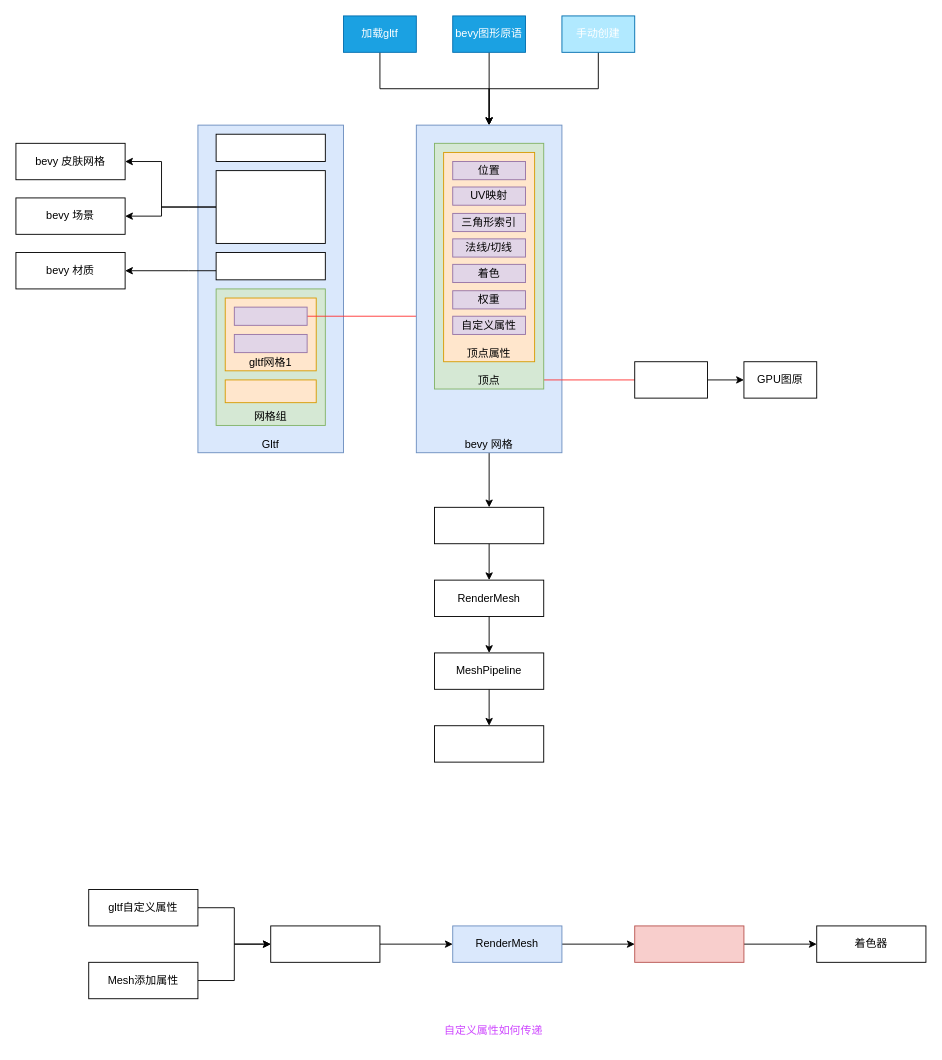
Image size: 942x1060. Some labels were removed from this diagram. The shapes that lost their labels are listed below. From the top down, each one's centre as x and y in pixels, then its label:
point (270, 147): gltf资产
point (270, 206): 场景组 皮肤组 动画组 节点组
point (270, 266): 材质组
point (270, 315): 原语1
point (270, 343): 原语2
point (270, 391): gltf网格2
point (671, 379): 点/线/三角形
point (489, 525): Mesh2d/Mesh3d
point (489, 743): 着色器/GPU
point (325, 943): Mesh
point (689, 943): MeshPipeline Mesh2dPipeline
